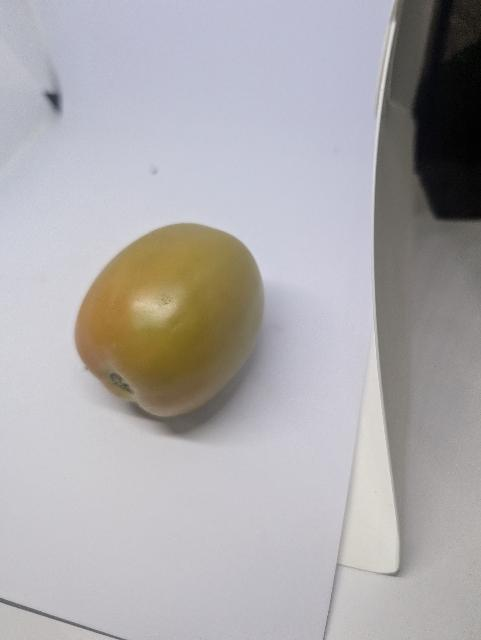breaker: (75, 224, 264, 417)
